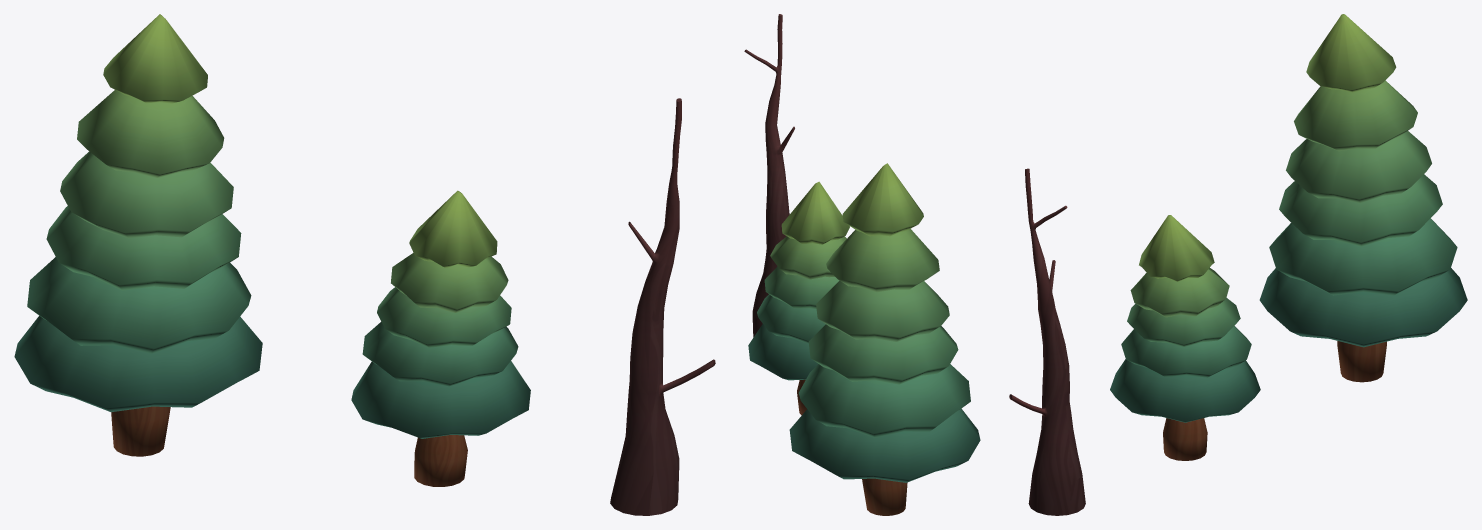
Rendered from Pinos.fbx.
3 renders of one model, left to right at view 1: azimuth 30°, elevation 25°; view 2: azimuth 150°, elevation 25°; view 3: azimuth 270°, elevation 25°, orthographic. The views are drawn at different scales.
Parts seen in each view (by area): view 1: Cylinder.007, Cylinder.005, Cylinder, Cylinder.006, Cylinder.004; view 2: Cylinder.007, Cylinder.005, Cylinder, Cylinder.006; view 3: Cylinder.007, Cylinder.005, Cylinder, Cylinder.004, Cylinder.006.
Part boxes in pixels (x1,y1,x2,y2): Cylinder.007: (14,14,262,412); Cylinder.005: (351,190,530,438); Cylinder: (610,98,715,515); Cylinder.006: (111,406,170,456); Cylinder.004: (414,435,467,486); Cylinder.007: (789,163,980,482); Cylinder.005: (748,181,849,380); Cylinder: (744,14,794,337); Cylinder.006: (862,478,907,515); Cylinder.007: (1259,14,1467,347); Cylinder.005: (1110,215,1260,422); Cylinder: (1009,168,1085,515); Cylinder.004: (1163,418,1207,460); Cylinder.006: (1337,341,1386,382).
Bounding box in the file's own units: 7.32 × 7.38 × 6.45.
Materials: 3 (3 with a texture image).
